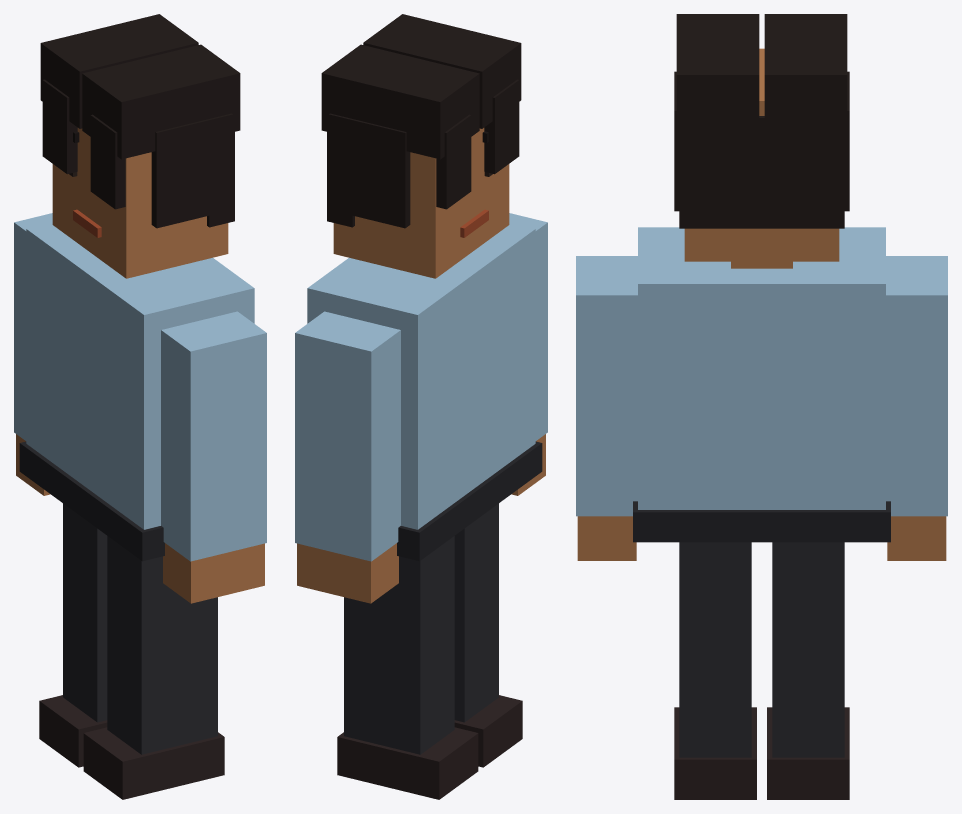
File: garcias_dad.glb
3 renders of one model, left to right at view 1: azimuth 30°, elevation 25°; view 2: azimuth 150°, elevation 25°; view 3: azimuth 270°, elevation 25°, orthographic. The views are drawn at different scales.
Parts seen in each view (by area): view 1: Box9, Box3, Box1, Box18, Box12, Box5, Box20, Box21, Box2, Box10, Box4, Box7 (+4 smaller); view 2: Box9, Box7, Box5, Box21, Box12, Box1, Box23, Box18, Box6, Box10, Box8, Box3 (+4 smaller); view 3: Box9, Box3, Box7, Box1, Box5, Box24, Box18, Box21, Box10, Box12, Box2, Box6 (+4 smaller).
Part boxes in pixels (x1,y1,x2,y2): Box9: (26, 222, 254, 529); Box3: (161, 311, 266, 561); Box1: (107, 536, 217, 754); Box18: (82, 44, 240, 159); Box12: (52, 128, 228, 278); Box5: (63, 503, 107, 722); Box20: (151, 113, 232, 228); Box21: (40, 14, 198, 128); Box2: (83, 727, 224, 799); Box10: (19, 441, 164, 561); Box4: (163, 543, 264, 603); Box7: (14, 213, 52, 440); Box9: (307, 222, 535, 529); Box7: (295, 311, 400, 561); Box5: (344, 536, 454, 754); Box21: (321, 44, 479, 159); Box12: (333, 128, 509, 278); Box1: (454, 503, 498, 722); Box23: (329, 113, 410, 228); Box18: (363, 14, 521, 128); Box6: (337, 727, 478, 799); Box10: (397, 441, 542, 561); Box8: (297, 543, 398, 603); Box3: (509, 213, 547, 440); Box9: (638, 227, 885, 509); Box3: (576, 256, 637, 516); Box7: (886, 256, 947, 516); Box1: (679, 542, 751, 757); Box5: (772, 542, 844, 757); Box24: (679, 116, 844, 228); Box18: (676, 14, 759, 135); Box21: (764, 14, 847, 135); Box10: (633, 501, 890, 542); Box12: (684, 48, 839, 261); Box2: (674, 707, 756, 799); Box6: (767, 707, 849, 799).
Size of the model in its own units: 0.3232 by 1.78 by 0.8165.
